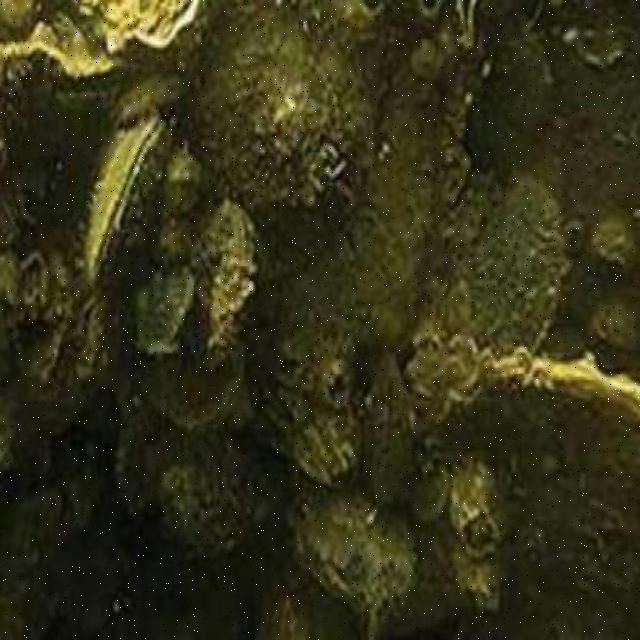Oyster-Closed: (432, 361, 640, 476), (124, 412, 277, 545), (468, 184, 568, 354), (88, 120, 170, 299), (299, 480, 411, 605)
